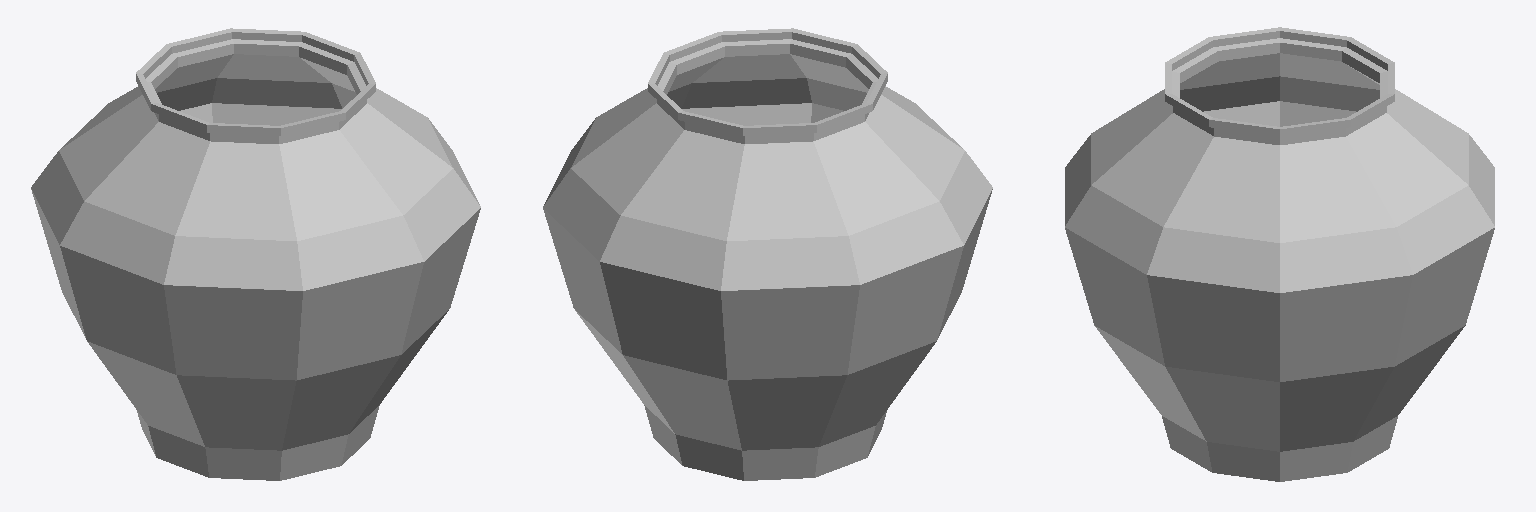
The model's file is Jar.obj.
3 views of the same model, side by side, from view 1: azimuth 30°, elevation 25°; view 2: azimuth 150°, elevation 25°; view 3: azimuth 270°, elevation 25° (orthographic).
Parts seen in each view (by area): view 1: pCylinder215; view 2: pCylinder215; view 3: pCylinder215.
Part boxes in pixels (bbox=[...]): pCylinder215: bbox=[31, 28, 480, 480]; pCylinder215: bbox=[543, 28, 992, 480]; pCylinder215: bbox=[1065, 27, 1494, 481].
Size of the model in its own units: 134 by 116 by 127.